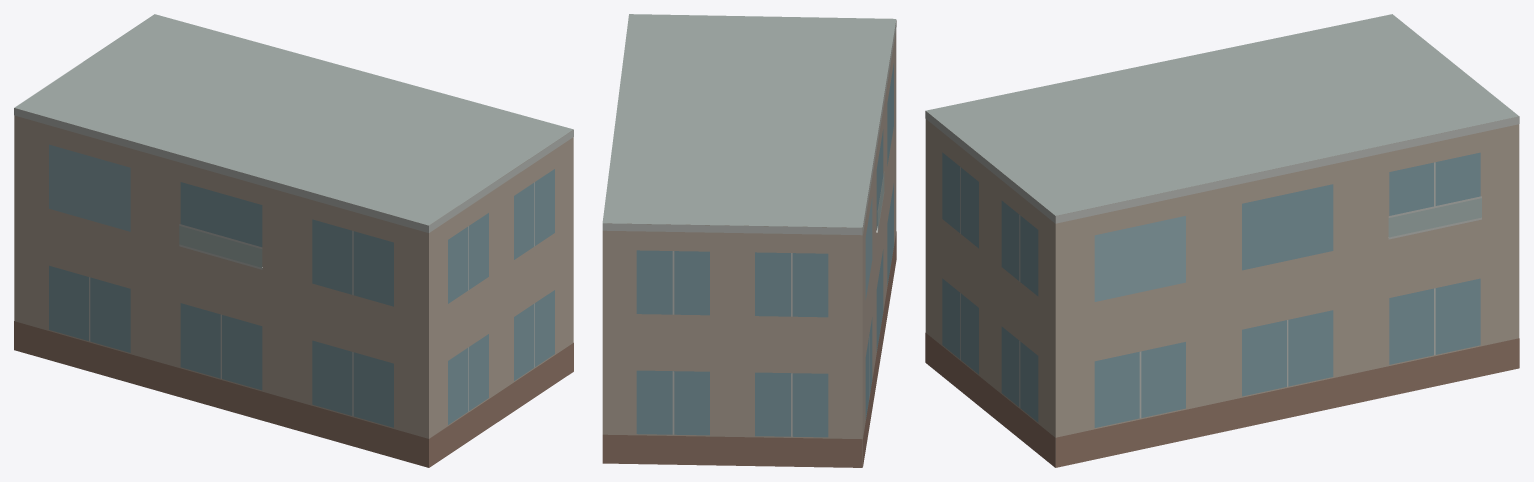
File: survey-upis-32745997.glb
The picture shows the model from 3 angles, left to right: view 1: azimuth 30°, elevation 25°; view 2: azimuth 150°, elevation 25°; view 3: azimuth 270°, elevation 25°; orthographic projection. The views are drawn at different scales.
Visible parts, largest first — view 1: survey-upis-32745997.tmp; view 2: survey-upis-32745997.tmp; view 3: survey-upis-32745997.tmp.
Boxes of the visible parts, left/top/right/bottom form: survey-upis-32745997.tmp: left=14, top=14, right=573, bottom=467; survey-upis-32745997.tmp: left=602, top=14, right=896, bottom=467; survey-upis-32745997.tmp: left=925, top=14, right=1519, bottom=467.
Bounding box in the file's own units: 13.5 × 7.85 × 16.78.
